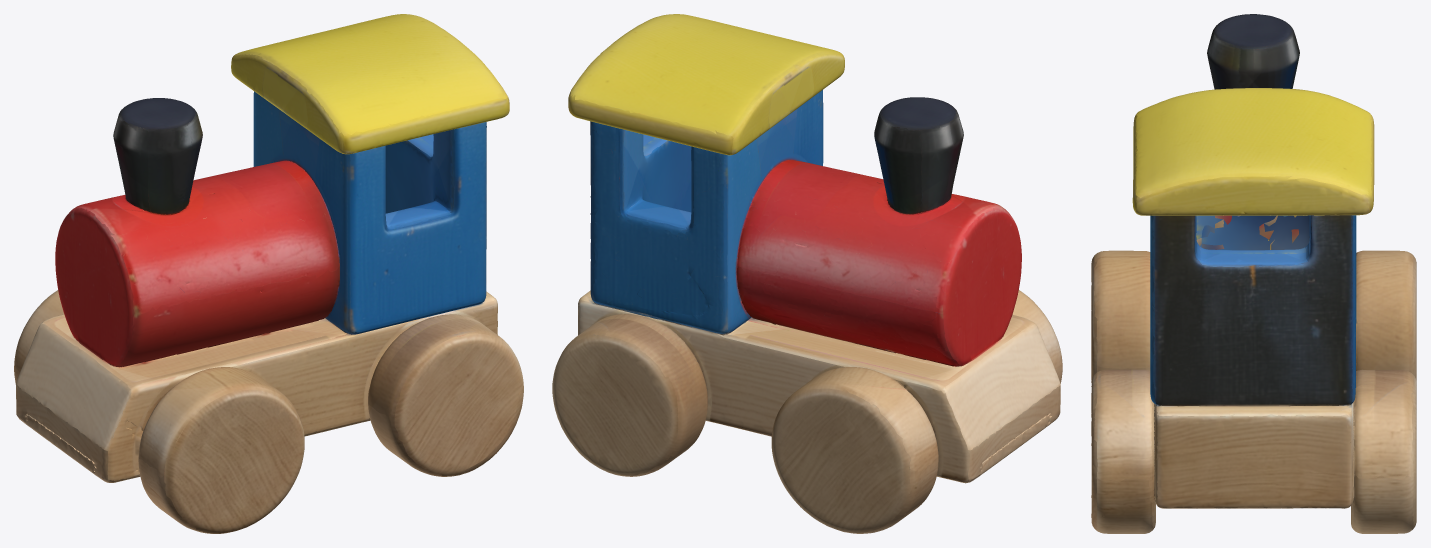
Rendered from wooden-locomotive.glb.
3 views of the same model, side by side, from view 1: azimuth 30°, elevation 25°; view 2: azimuth 150°, elevation 25°; view 3: azimuth 270°, elevation 25° (orthographic). The views are drawn at different scales.
Visible parts, largest first — view 1: geometry_0; view 2: geometry_0; view 3: geometry_0.
Part boxes in pixels (x1,y1,x2,y2): geometry_0: (14,14,523,533); geometry_0: (552,14,1062,533); geometry_0: (1091,14,1416,533).
Size of the model in its own units: 0.13 by 0.118 by 0.0886.
1 material, 1 textured.
